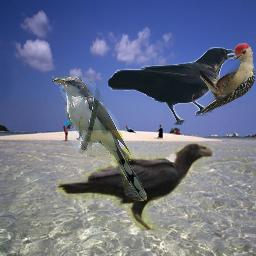Crow: (56, 142, 215, 231), (107, 47, 240, 125)
Cuckoo: (52, 76, 147, 201)
Woodpecker: (200, 43, 255, 116)
